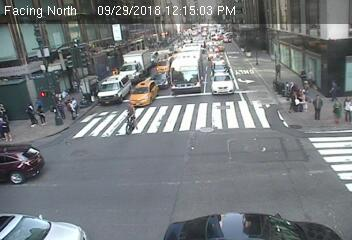car: (162, 213, 340, 240), (1, 211, 86, 240), (1, 143, 45, 184), (173, 43, 206, 97), (97, 74, 131, 106), (118, 49, 152, 79), (131, 81, 157, 106), (211, 74, 237, 95), (207, 47, 226, 62), (154, 72, 170, 88), (155, 58, 172, 72), (211, 62, 231, 73), (223, 33, 233, 43)
